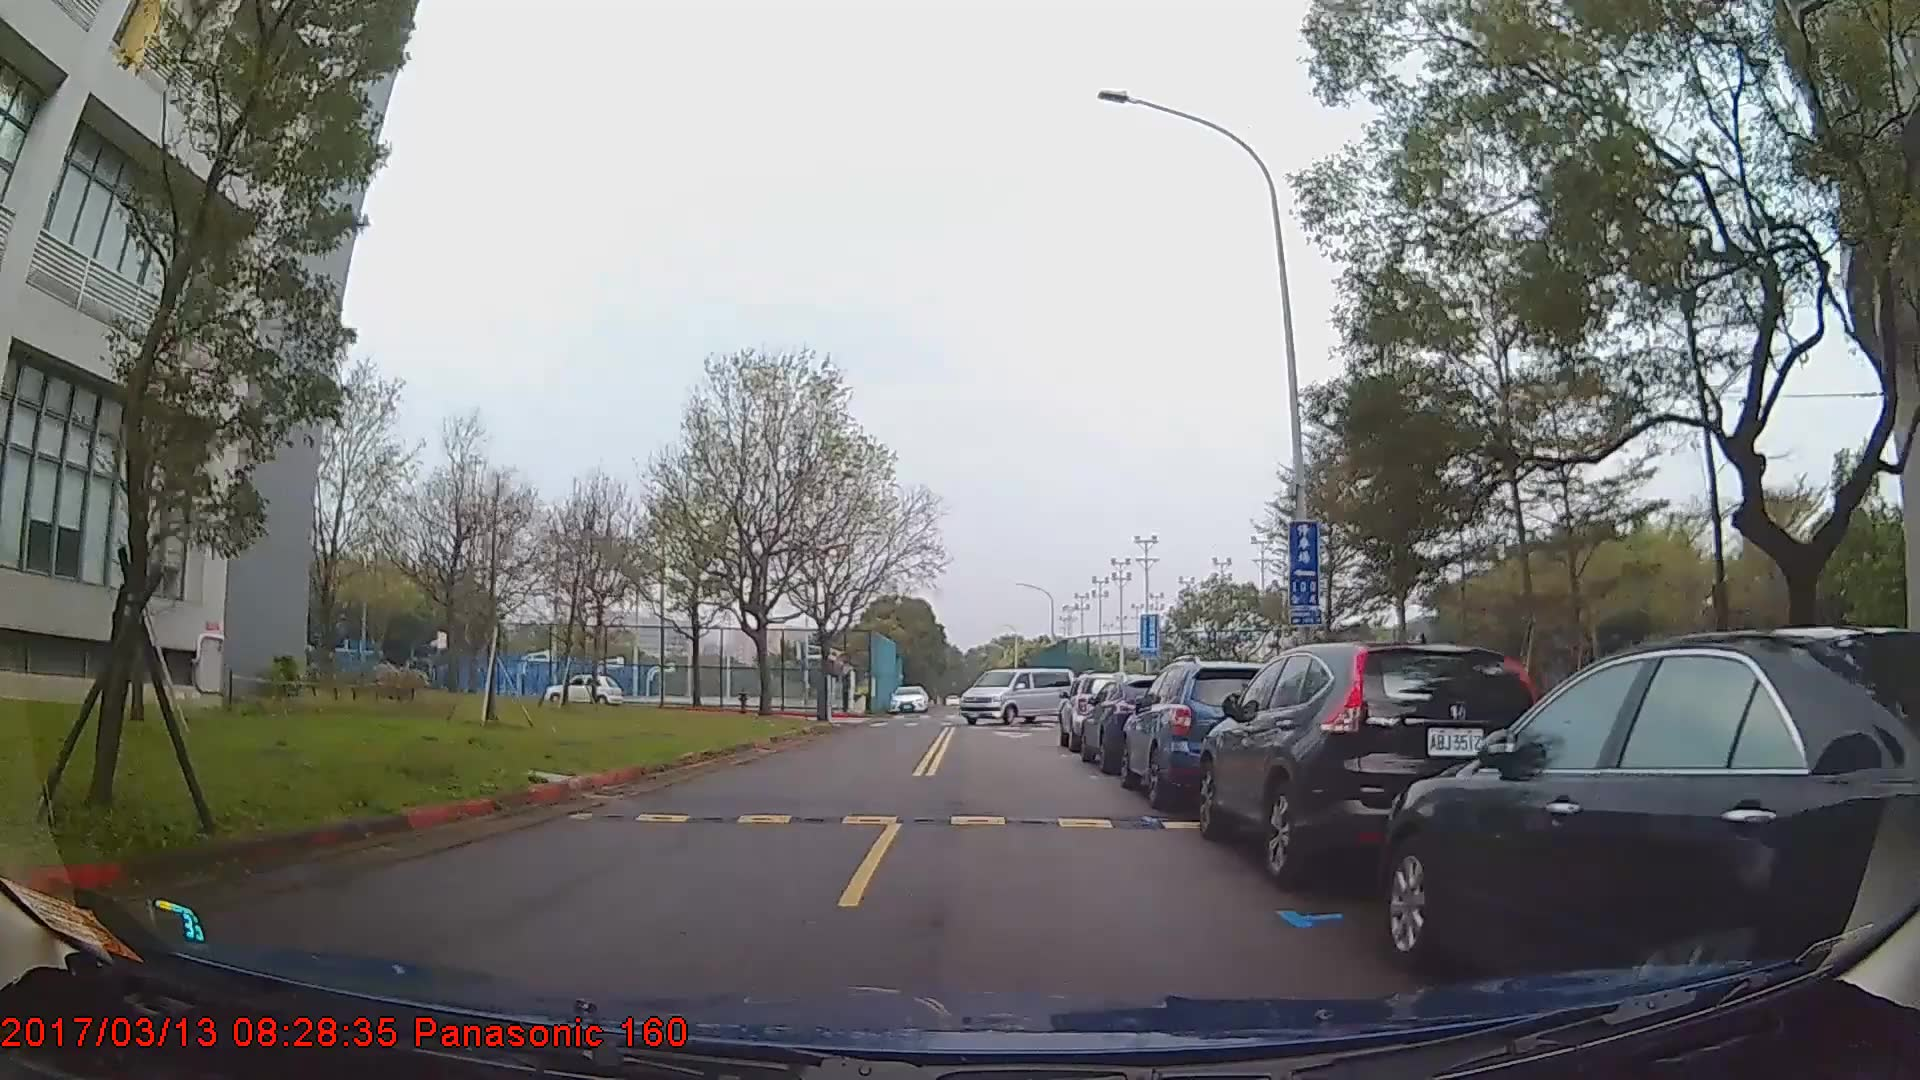vehicle: (1377, 626, 1920, 1018), (1195, 640, 1543, 887), (1118, 658, 1286, 807), (961, 665, 1077, 721), (545, 669, 622, 708), (889, 684, 931, 713)
